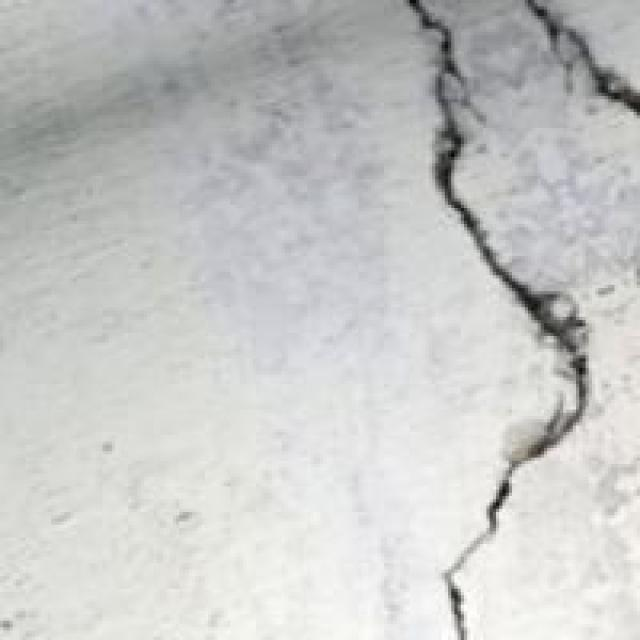crack: (352, 0, 637, 637)
